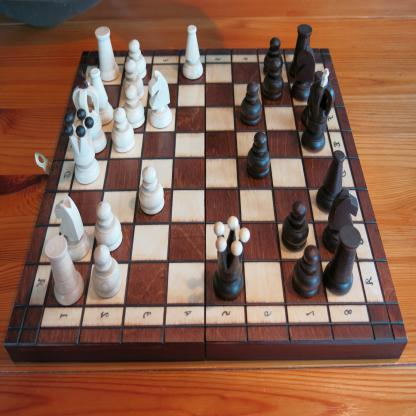black-bishop: (316, 150, 346, 214), (300, 70, 324, 128)
black-king: (300, 68, 336, 153)
black-knight: (323, 188, 358, 256), (290, 44, 316, 102)
black-pawn: (292, 244, 323, 299), (281, 200, 310, 251), (246, 130, 271, 180), (240, 81, 263, 127), (262, 36, 284, 80), (262, 57, 284, 101)
black-queen: (212, 216, 250, 301)
black-rook: (322, 224, 362, 296), (288, 23, 313, 80)
white-bishop: (90, 67, 114, 126), (182, 24, 203, 80)
white-king: (72, 70, 108, 154)
white-knight: (53, 195, 90, 262), (148, 70, 173, 129)
white-pawn: (92, 243, 122, 299), (93, 200, 123, 251), (138, 165, 165, 216), (110, 107, 136, 154), (123, 84, 146, 130), (123, 59, 145, 101), (125, 38, 147, 79)
white-queen: (63, 108, 100, 184)
white-rook: (44, 235, 85, 307), (94, 25, 120, 82)
